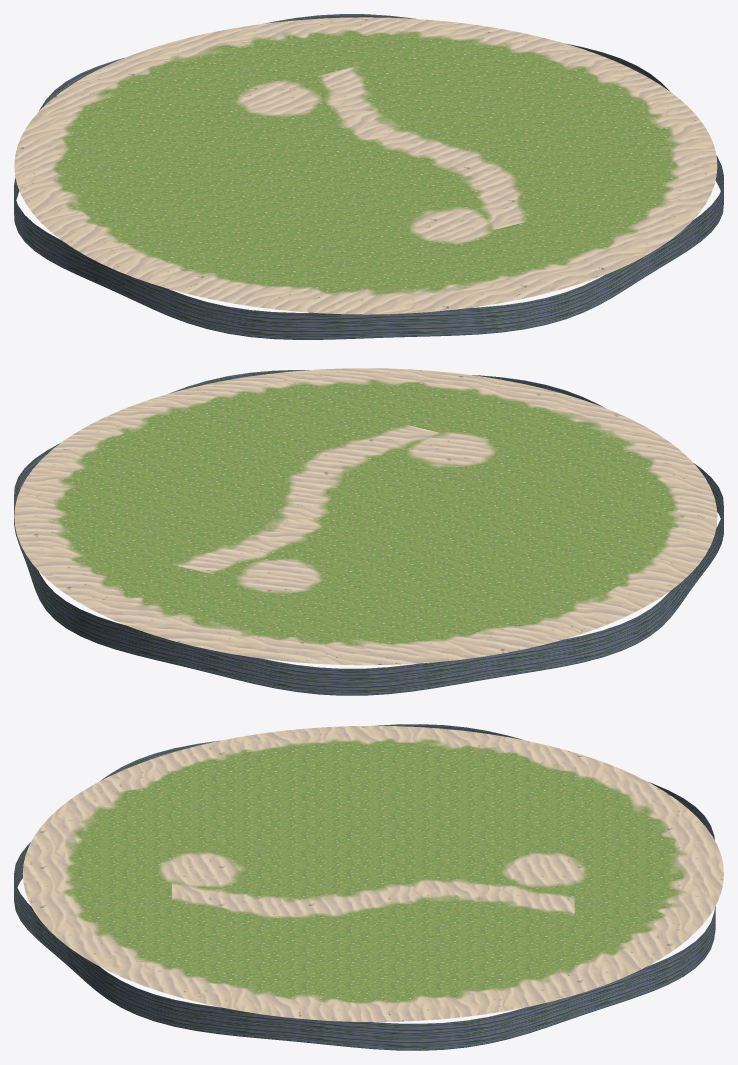
Rendered from ground.glb.
3 views of the same model, one above another, from view 1: azimuth 30°, elevation 25°; view 2: azimuth 150°, elevation 25°; view 3: azimuth 270°, elevation 25° (orthographic).
Visible parts, largest first — view 1: ground-top, ground-cliff; view 2: ground-top, ground-cliff; view 3: ground-top, ground-cliff.
Part boxes in pixels (x1,y1,x2,y2): ground-top: (14, 17, 717, 314); ground-cliff: (14, 14, 723, 339); ground-top: (14, 368, 717, 665); ground-cliff: (14, 370, 723, 695); ground-top: (22, 725, 723, 1021); ground-cliff: (14, 724, 715, 1050).
Size of the model in its own units: 95.04 by 4.5 by 95.17.
Materials: 2 (2 with a texture image).
